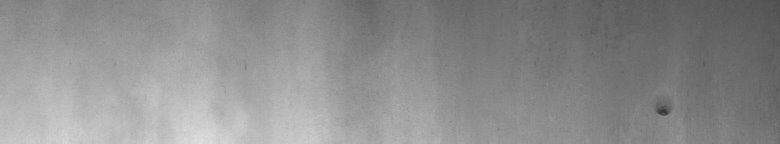fi: (652, 100, 677, 124)
